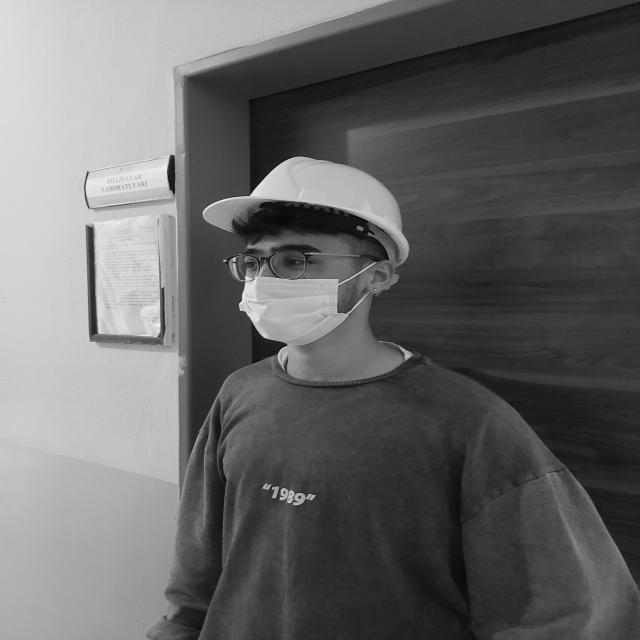safety_helmet: (201, 157, 411, 269)
